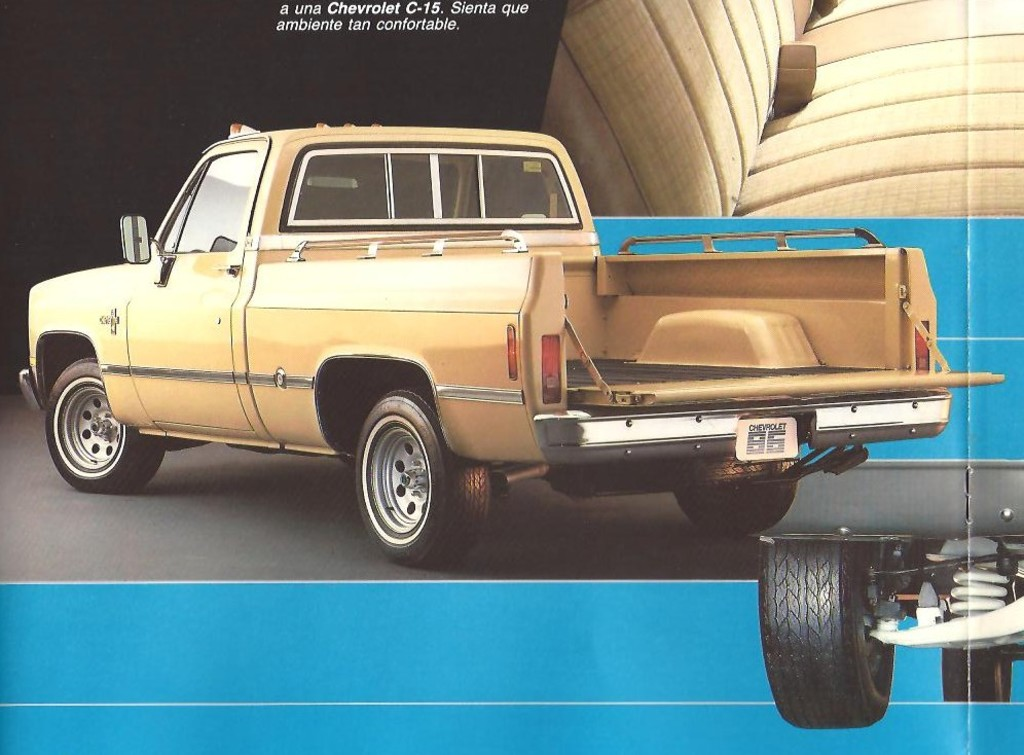Car: (18, 120, 1003, 567), (747, 337, 1022, 726), (535, 0, 1022, 214)
